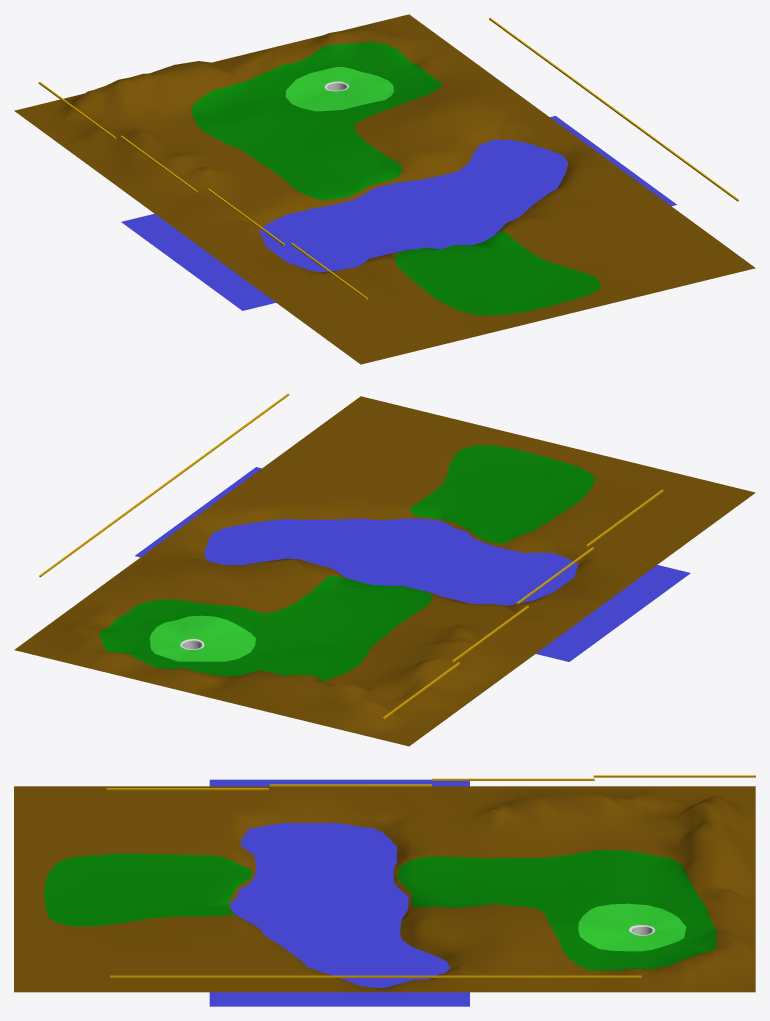
Rendered from hole010.fbx.
The picture shows the model from 3 angles, top to bottom: view 1: azimuth 30°, elevation 25°; view 2: azimuth 150°, elevation 25°; view 3: azimuth 270°, elevation 25°; orthographic projection. The views are drawn at different scales.
Visible parts, largest first — view 1: nurbsToPoly2, pPlane2, pCube1; view 2: nurbsToPoly2, pPlane2, pCube1; view 3: nurbsToPoly2, pPlane2, pCube1, pCube3, pCube4, pCube5, pCube2.
Part boxes in pixels (x1=…): nurbsToPoly2: x1=14, y1=14, x2=755, y2=364; pPlane2: x1=121, y1=116, x2=676, y2=310; pCube1: x1=489, y1=17, x2=738, y2=201; nurbsToPoly2: x1=14, y1=396, x2=755, y2=746; pPlane2: x1=135, y1=467, x2=690, y2=661; pCube1: x1=39, y1=393, x2=289, y2=577; nurbsToPoly2: x1=14, y1=786, x2=755, y2=992; pPlane2: x1=209, y1=779, x2=469, y2=1006; pCube1: x1=110, y1=975, x2=641, y2=977; pCube3: x1=269, y1=784, x2=431, y2=786; pCube4: x1=432, y1=778, x2=594, y2=780; pCube5: x1=593, y1=775, x2=755, y2=777; pCube2: x1=106, y1=788, x2=268, y2=790.
Size of the model in its own units: 313 by 35.55 by 419.
